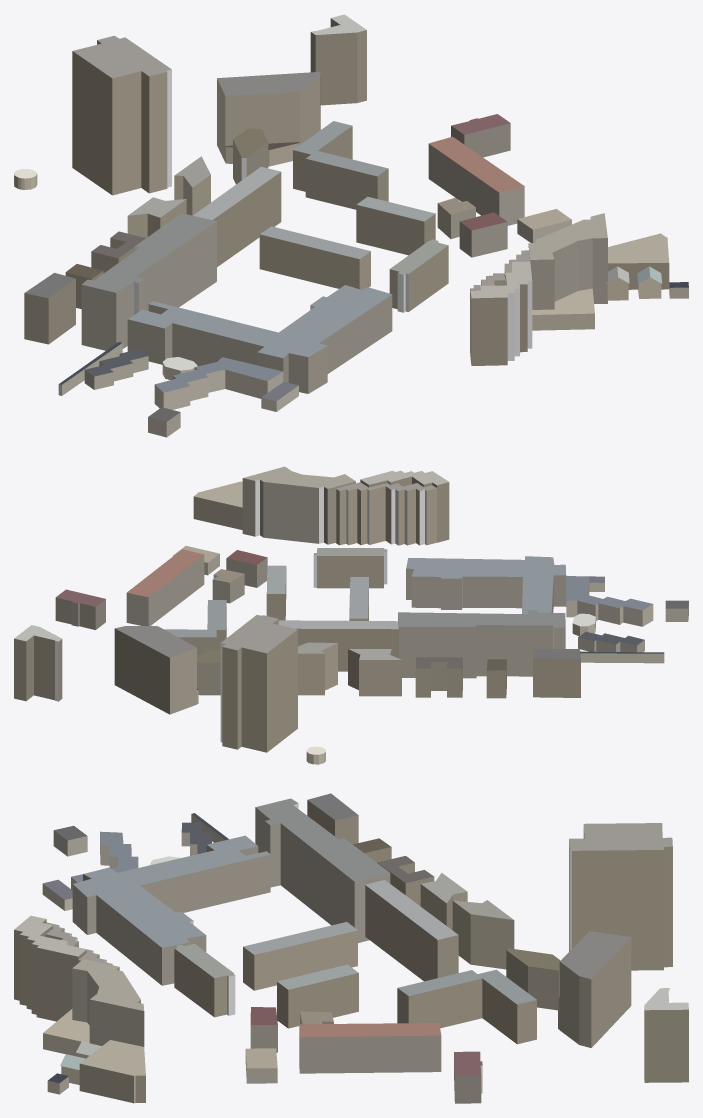
The picture shows the model from 3 angles, top to bottom: view 1: azimuth 30°, elevation 25°; view 2: azimuth 150°, elevation 25°; view 3: azimuth 270°, elevation 25°; orthographic projection. The views are drawn at different scales.
Visible parts, largest first — view 1: tuile; view 2: tuile; view 3: tuile.
Part boxes in pixels (x1,y1,x2,y2): tuile: [14, 14, 688, 437]; tuile: [14, 466, 688, 764]; tuile: [14, 793, 688, 1103].
Size of the model in its own units: 270 by 53.76 by 264.
